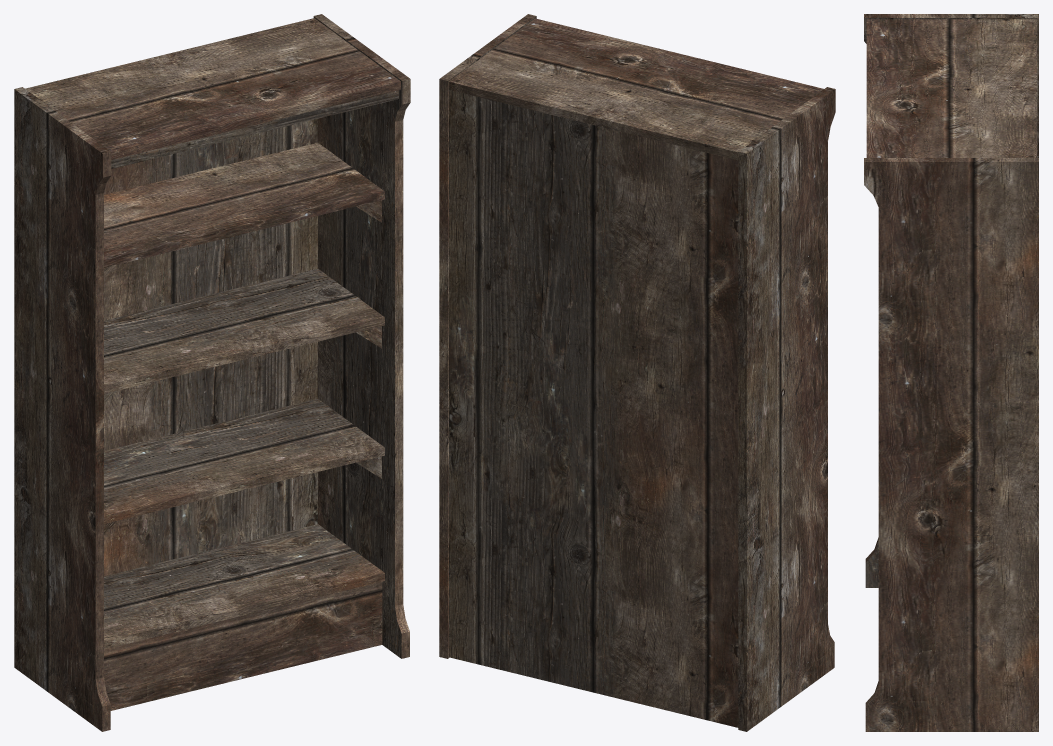
File: cupboard5b.fbx
The picture shows the model from 3 angles, left to right: view 1: azimuth 30°, elevation 25°; view 2: azimuth 150°, elevation 25°; view 3: azimuth 270°, elevation 25°; orthographic projection.
Parts seen in each view (by area): view 1: polySurface463; view 2: polySurface463; view 3: polySurface463.
Boxes of the visible parts, <box> form: polySurface463: <box>14,14,410,731</box>; polySurface463: <box>439,14,835,731</box>; polySurface463: <box>864,14,1038,731</box>.
Size of the model in its own units: 1.45 by 2.61 by 0.7251.
